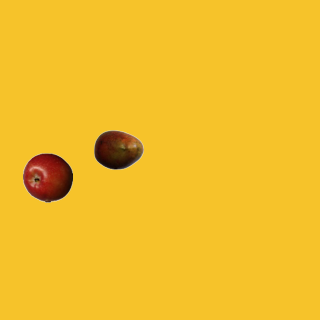Apple Braeburn: (22, 152, 72, 202)
Mango Red: (93, 124, 143, 174)
